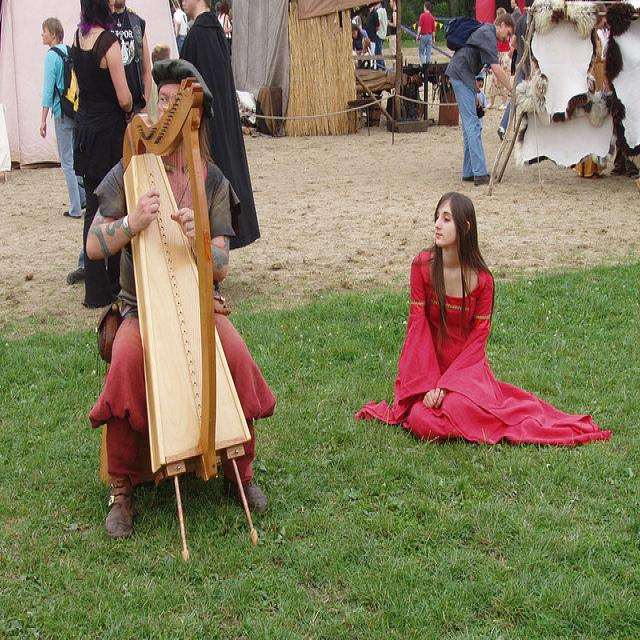harp: (122, 76, 252, 477)
